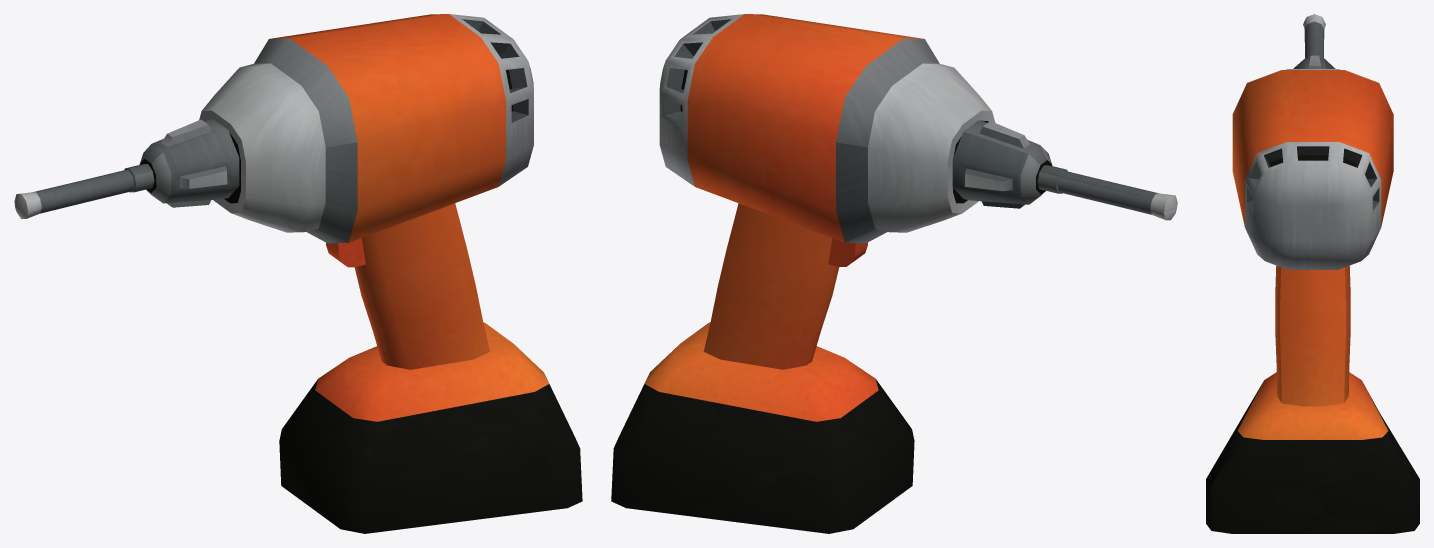
File: e_drill.fbx
The picture shows the model from 3 angles, left to right: view 1: azimuth 30°, elevation 25°; view 2: azimuth 150°, elevation 25°; view 3: azimuth 270°, elevation 25°; orthographic projection. The views are drawn at different scales.
Parts seen in each view (by area): view 1: drill_acumulator; view 2: drill_acumulator; view 3: drill_acumulator.
Part boxes in pixels (x1=…): drill_acumulator: x1=14, y1=14, x2=582, y2=533; drill_acumulator: x1=611, y1=14, x2=1177, y2=533; drill_acumulator: x1=1206, y1=14, x2=1419, y2=533.
Bounding box in the file's own units: 36.1 × 30.68 × 15.82.
